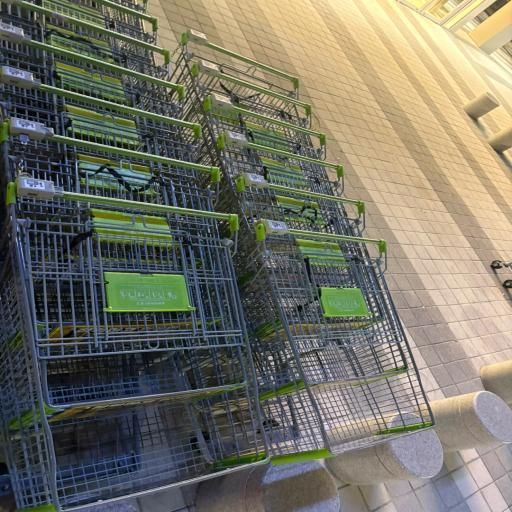combined_cart: (0, 1, 283, 512), (171, 19, 451, 475)
